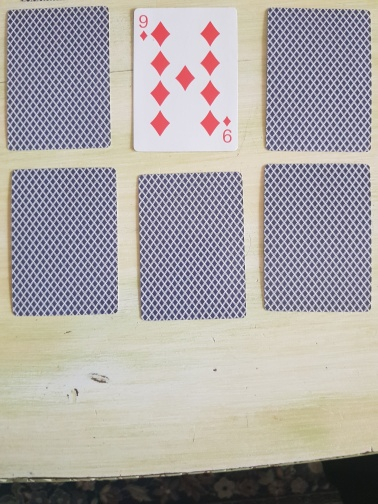nine: (131, 7, 240, 153)
